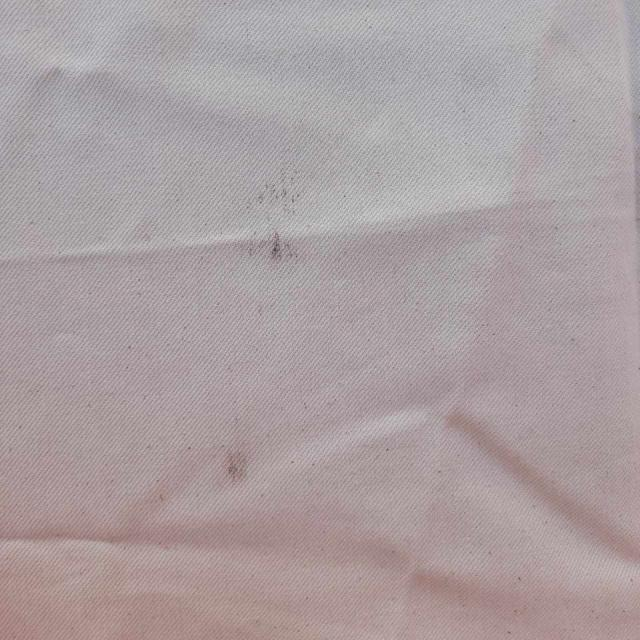taaaches: (199, 438, 257, 500), (248, 180, 302, 212), (252, 220, 288, 264)
